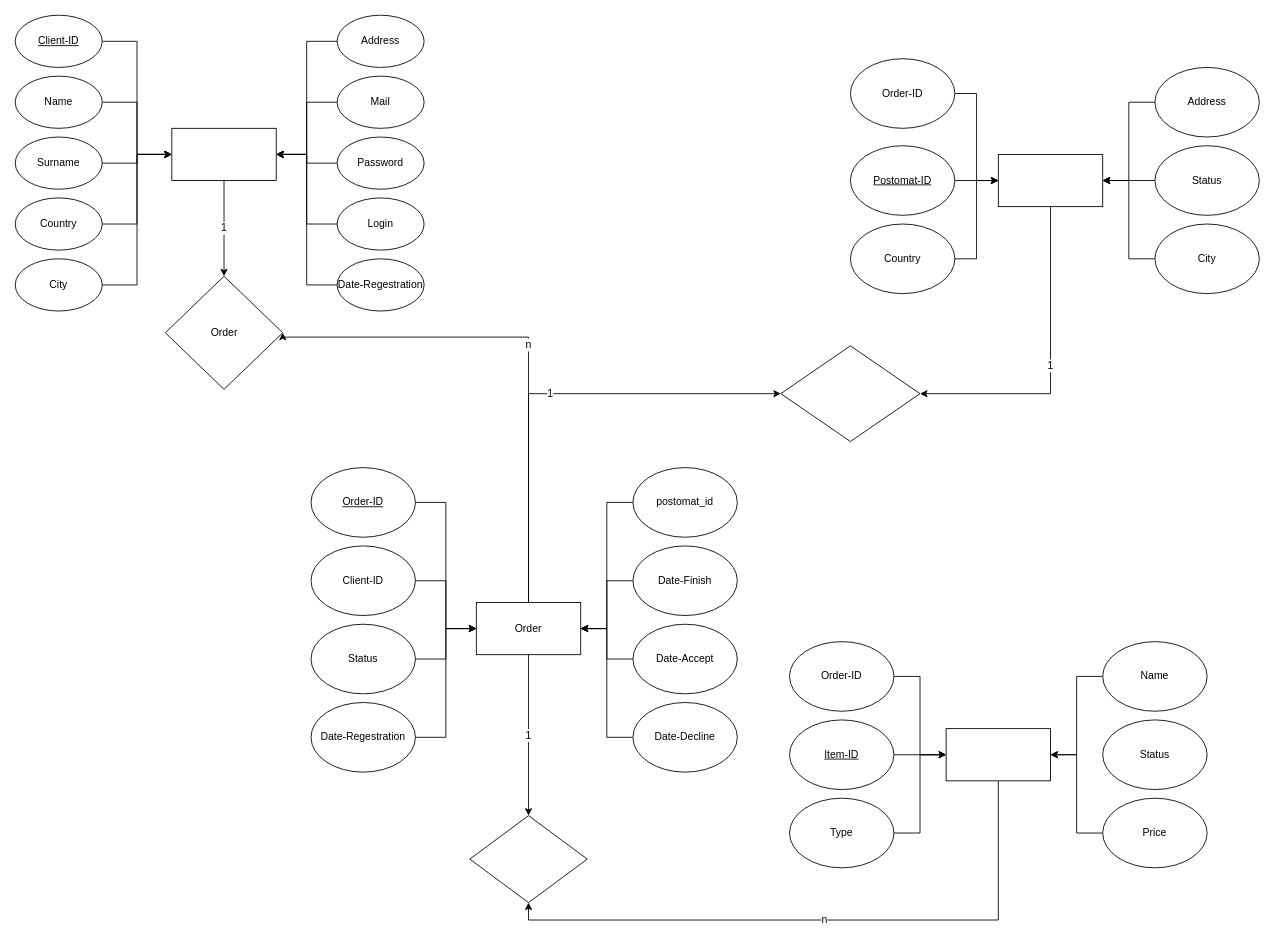
Image size: 1275x942. Some labels were removed from this diagram. The shapes that lost their labels are listed below. From the top down, each one's centre as x and y in pixels, then its label:
At (x=223, y=154): "Client".
At (x=1050, y=180): "Postomat".
At (x=850, y=393): "Contain".
At (x=998, y=754): "Item".
At (x=528, y=859): "Composition".
